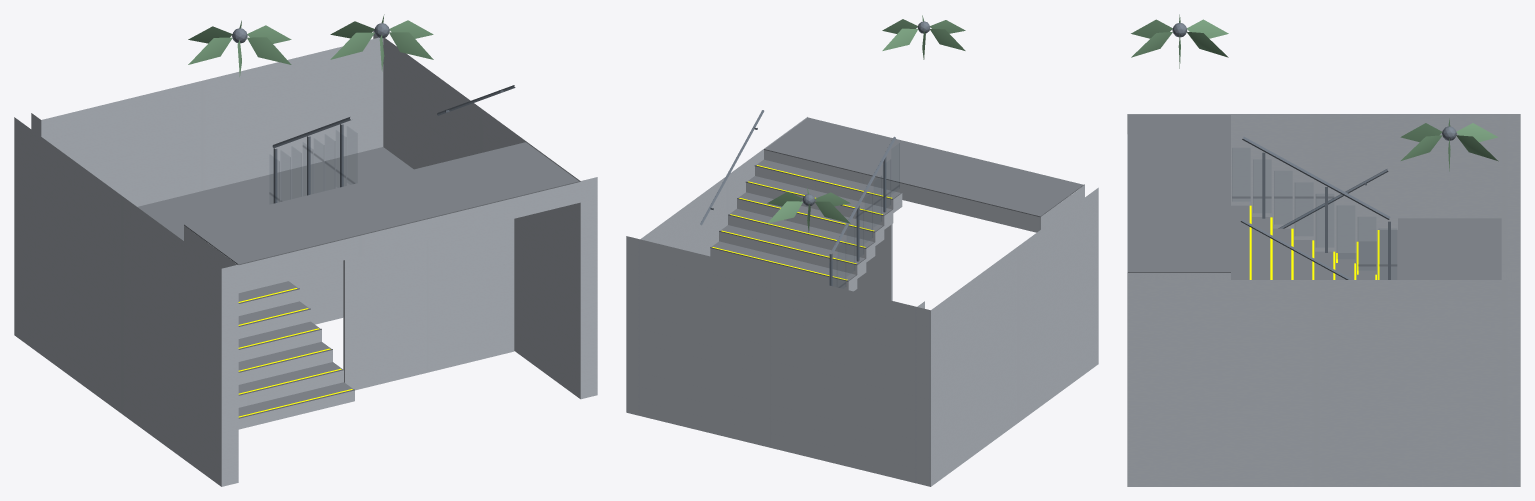
The picture shows the model from 3 angles, left to right: view 1: azimuth 30°, elevation 25°; view 2: azimuth 150°, elevation 25°; view 3: azimuth 270°, elevation 25°; orthographic projection. The views are drawn at different scales.
Visible parts, largest first — view 1: Core_Walls, Understair_Screen, Top_Landing_Slate, Top_Landing, Mid_Landing_Slate, Flight1_Cast, Treads_Slate, Leaf_Canopy_Lamp, Mid_Landing, Nosing_Emergency, Guard_Posts, Guard_Glass_Centre; view 2: Core_Walls, Top_Landing_Slate, Flight2_Modules, Treads_Slate, Top_Landing, Leaf_Canopy_Lamp, Understair_Screen, Nosing_Emergency, Guard_Posts, Guard_Glass_Centre; view 3: Core_Walls, Top_Landing_Slate, Treads_Slate, Mid_Landing_Slate, Leaf_Canopy_Lamp, Nosing_Emergency, Handrail_Wall, Top_Landing, Guard_Glass_Centre, Guard_Cap_Rail, Guard_Posts.
Boxes of the visible parts, x1=… form: Core_Walls: x1=14, y1=31, x2=597, y2=486; Understair_Screen: x1=343, y1=219, x2=514, y2=390; Top_Landing_Slate: x1=184, y1=142, x2=580, y2=264; Top_Landing: x1=184, y1=182, x2=580, y2=285; Mid_Landing_Slate: x1=137, y1=147, x2=413, y2=240; Flight1_Cast: x1=238, y1=274, x2=354, y2=429; Treads_Slate: x1=238, y1=281, x2=354, y2=418; Leaf_Canopy_Lamp: x1=188, y1=14, x2=433, y2=76; Mid_Landing: x1=288, y1=260, x2=343, y2=324; Nosing_Emergency: x1=238, y1=288, x2=352, y2=417; Guard_Posts: x1=273, y1=124, x2=343, y2=203; Guard_Glass_Centre: x1=269, y1=137, x2=355, y2=201; Core_Walls: x1=626, y1=117, x2=1098, y2=486; Top_Landing_Slate: x1=764, y1=117, x2=1084, y2=217; Flight2_Modules: x1=710, y1=166, x2=902, y2=291; Treads_Slate: x1=710, y1=159, x2=901, y2=281; Top_Landing: x1=764, y1=150, x2=1084, y2=232; Leaf_Canopy_Lamp: x1=767, y1=15, x2=965, y2=232; Understair_Screen: x1=854, y1=224, x2=892, y2=300; Nosing_Emergency: x1=712, y1=165, x2=891, y2=280; Guard_Posts: x1=829, y1=157, x2=886, y2=286; Guard_Glass_Centre: x1=836, y1=143, x2=899, y2=287; Core_Walls: x1=1127, y1=114, x2=1520, y2=486; Top_Landing_Slate: x1=1127, y1=115, x2=1230, y2=272; Treads_Slate: x1=1231, y1=205, x2=1397, y2=279; Mid_Landing_Slate: x1=1398, y1=218, x2=1501, y2=279; Leaf_Canopy_Lamp: x1=1131, y1=14, x2=1498, y2=171; Nosing_Emergency: x1=1249, y1=205, x2=1379, y2=279; Handrail_Wall: x1=1240, y1=169, x2=1388, y2=279; Top_Landing: x1=1127, y1=134, x2=1230, y2=279; Guard_Glass_Centre: x1=1232, y1=148, x2=1396, y2=279; Guard_Cap_Rail: x1=1242, y1=136, x2=1390, y2=219; Guard_Posts: x1=1262, y1=152, x2=1390, y2=279.
Size of what is drawn, in the model's own units: 5.5 by 5.55 by 5.25.
Materials: 6 (3 with a texture image).
